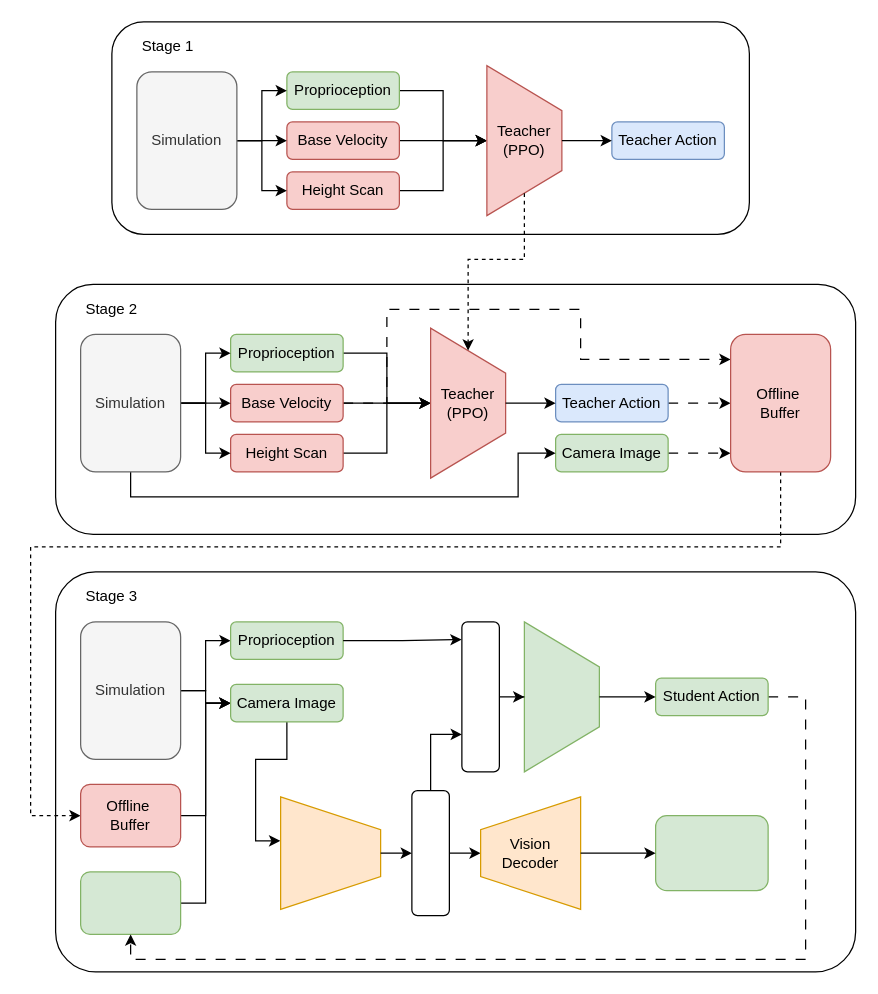
The diagram is 878 pixels wide and 994 high, and some of its shapes have lost their labels. Here are the shapes that lost their labels. From the top down, the box of each, then its label:
(461, 621, 499, 772): GRU
(523, 621, 599, 772): Student (FastTD3)
(279, 796, 381, 909): Vision Encoder
(411, 789, 449, 916): Vision Latent
(654, 814, 768, 891): Height Scan Reconstruction
(79, 871, 181, 934): Online Buffer
